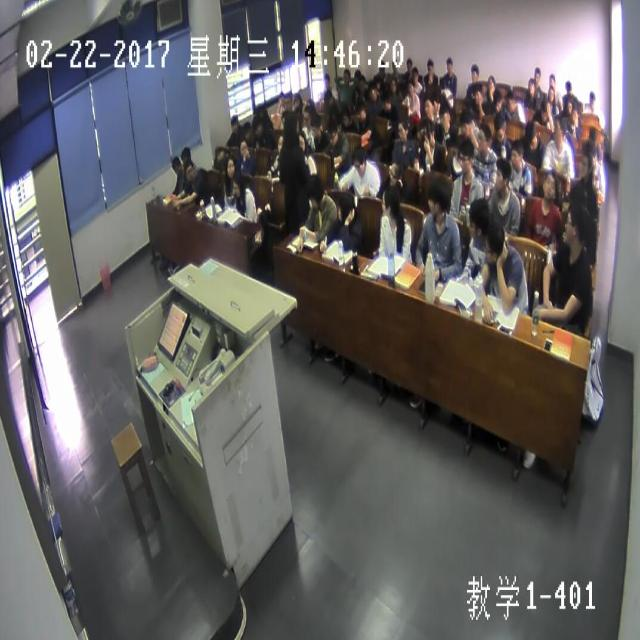person: (564, 202, 583, 248), (485, 223, 504, 263), (428, 183, 448, 217), (468, 202, 485, 236), (458, 142, 474, 176), (304, 178, 322, 208), (382, 188, 398, 218), (494, 160, 509, 192), (542, 170, 557, 200), (338, 194, 353, 221), (285, 110, 297, 142), (509, 141, 523, 167), (494, 114, 506, 144), (580, 151, 592, 181), (584, 138, 596, 168), (352, 149, 365, 176), (553, 115, 565, 144), (476, 125, 488, 152), (388, 162, 401, 185), (423, 120, 434, 145), (231, 173, 243, 195), (295, 130, 306, 154), (326, 122, 337, 145), (397, 119, 408, 142), (526, 126, 536, 151), (461, 114, 471, 138), (310, 115, 320, 138), (507, 91, 517, 113), (540, 101, 550, 123), (276, 133, 285, 156), (382, 90, 391, 113), (242, 120, 252, 140), (440, 108, 450, 128), (225, 157, 235, 176), (424, 98, 433, 119), (171, 156, 181, 174), (239, 138, 248, 158), (588, 127, 597, 147), (302, 106, 310, 128), (186, 163, 195, 182), (253, 116, 262, 135), (305, 96, 314, 115), (357, 105, 366, 124), (473, 86, 482, 105), (341, 108, 350, 126), (431, 92, 440, 110), (180, 147, 190, 163), (324, 90, 334, 106), (493, 90, 501, 110), (215, 146, 224, 163), (368, 85, 377, 102), (230, 113, 238, 132), (569, 106, 577, 125), (256, 104, 264, 122), (329, 106, 338, 122), (426, 58, 434, 76), (486, 76, 495, 92), (548, 72, 556, 90), (470, 64, 478, 81), (389, 75, 396, 94), (358, 76, 366, 92), (445, 56, 452, 74), (588, 90, 595, 108), (293, 91, 300, 108), (565, 97, 572, 114), (353, 68, 360, 84), (527, 78, 534, 94), (285, 92, 291, 110), (534, 66, 540, 84), (342, 69, 349, 84), (548, 85, 554, 102), (412, 67, 418, 83), (406, 56, 412, 72), (277, 92, 284, 105), (407, 81, 413, 96), (323, 74, 329, 88), (378, 60, 384, 74), (565, 78, 571, 92), (391, 58, 396, 70)
